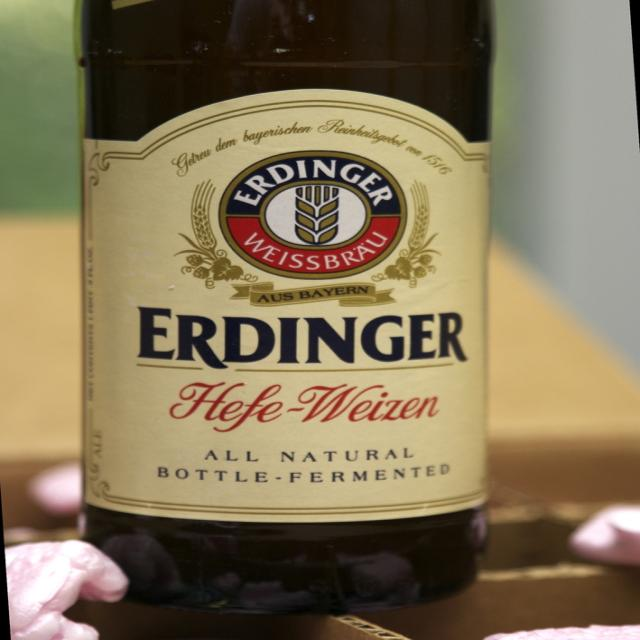erdinger: (122, 118, 472, 378)
